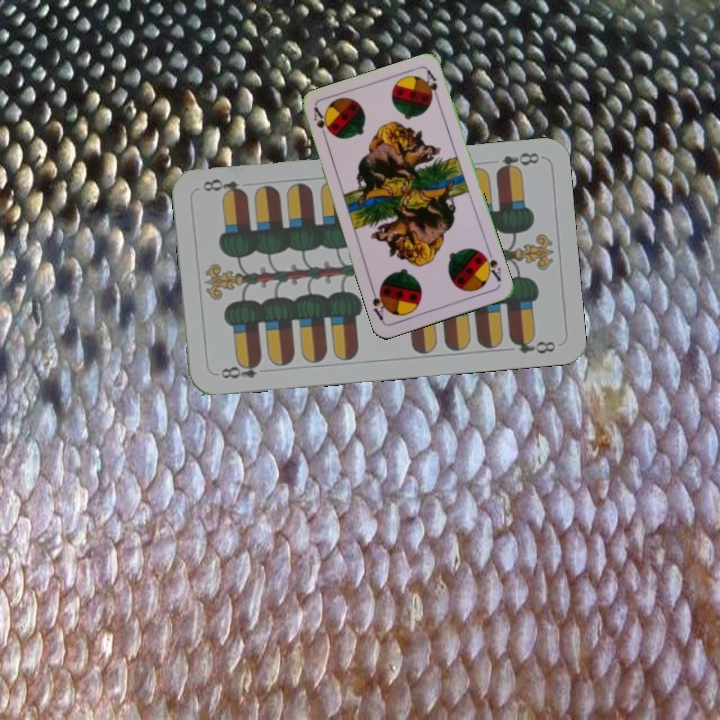E8: (492, 148, 542, 176), (216, 356, 264, 382)
SA: (478, 248, 504, 284), (310, 104, 332, 144)
